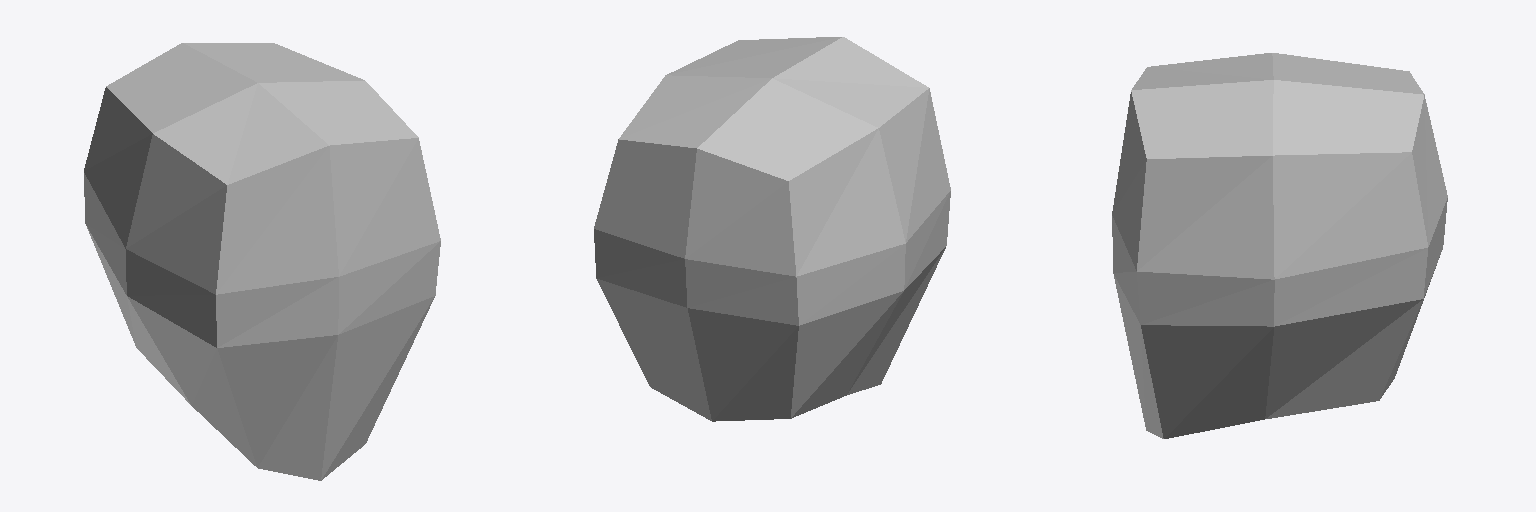
Rendered from head.obj.
3 views of the same model, side by side, from view 1: azimuth 30°, elevation 25°; view 2: azimuth 150°, elevation 25°; view 3: azimuth 270°, elevation 25° (orthographic).
Size of the model in its own units: 17.76 by 22.24 by 19.28.